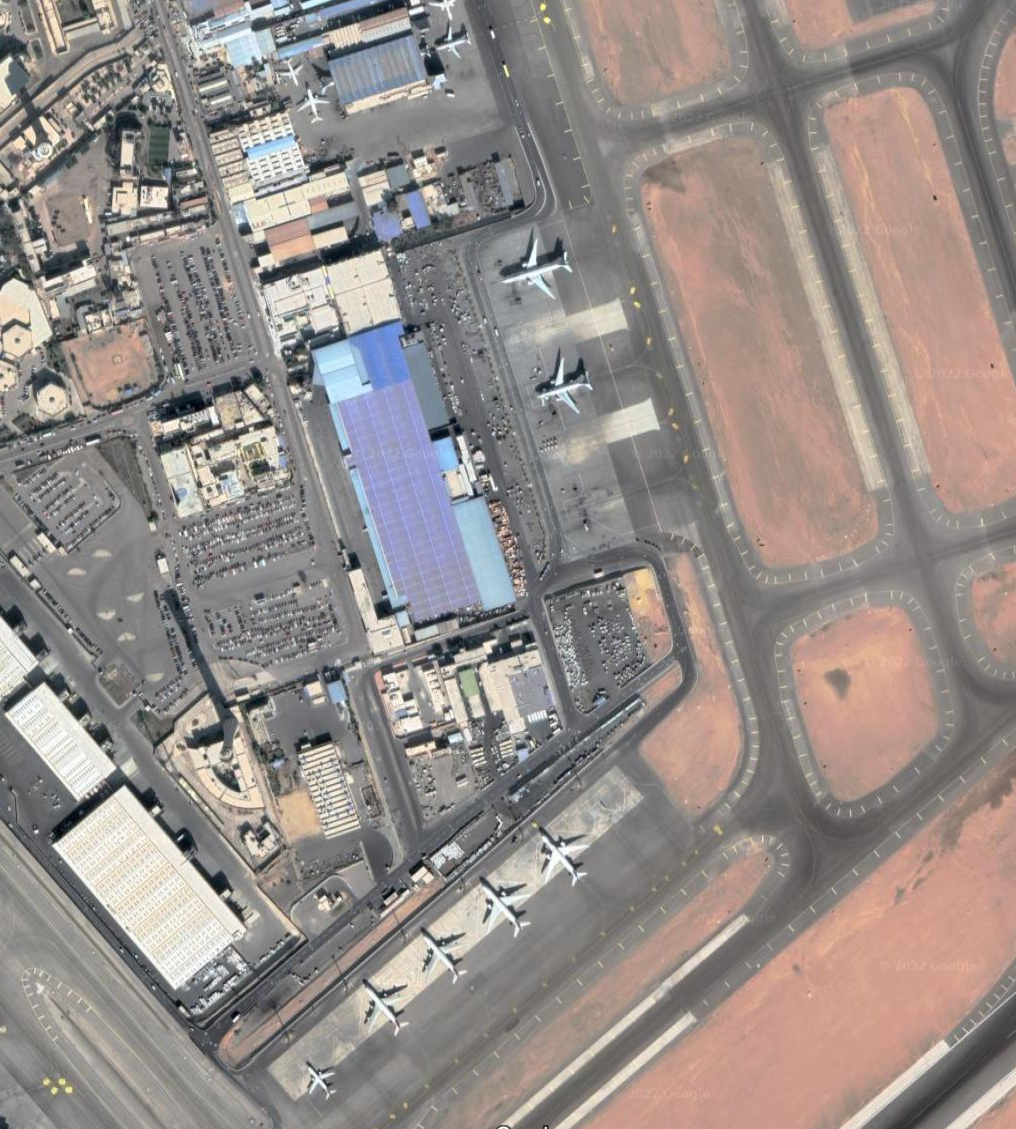plane: (500, 239, 573, 301), (538, 357, 594, 415), (477, 882, 532, 940), (539, 831, 588, 889), (360, 980, 409, 1037), (420, 931, 468, 985), (434, 25, 472, 59), (296, 88, 331, 124), (306, 1065, 337, 1100), (278, 56, 305, 87)
